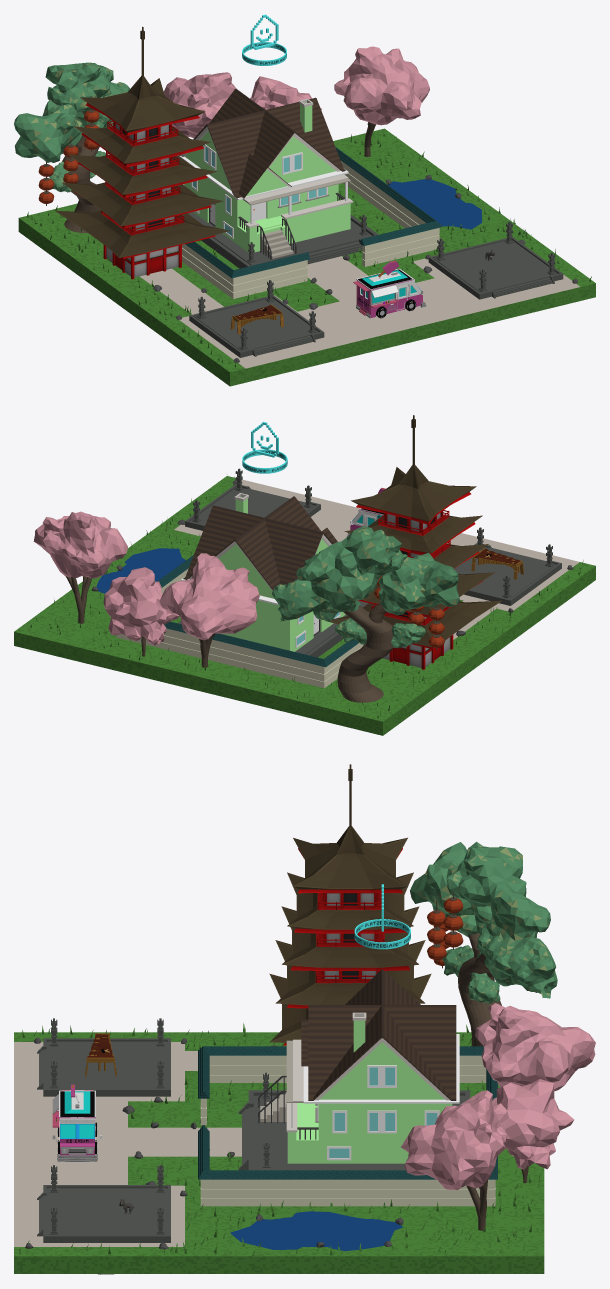
3 renders of one model, top to bottom at view 1: azimuth 30°, elevation 25°; view 2: azimuth 150°, elevation 25°; view 3: azimuth 270°, elevation 25°, orthographic. The views are drawn at different scales.
Visible parts, largest first — view 1: Cube.005, Cube.274, VEHICLES_ICE_CREAM_TRUCK, TYPE_PREMIUM, OBJRANDOM_MARIMBA; view 2: Cube.005, Cube.274, TYPE_PREMIUM, OBJRANDOM_MARIMBA, VEHICLES_ICE_CREAM_TRUCK; view 3: Cube.005, Cube.274, VEHICLES_ICE_CREAM_TRUCK, TYPE_PREMIUM, OBJRANDOM_MARIMBA.
Boxes of the visible parts, left/top/right/bottom form: Cube.005: left=14, top=26, right=595, bottom=386; Cube.274: left=178, top=88, right=353, bottom=259; VEHICLES_ICE_CREAM_TRUCK: left=353, top=260, right=426, bottom=318; TYPE_PREMIUM: left=242, top=14, right=286, bottom=65; OBJRANDOM_MARIMBA: left=230, top=304, right=283, bottom=334; Cube.005: left=14, top=415, right=595, bottom=735; Cube.274: left=181, top=493, right=345, bottom=651; TYPE_PREMIUM: left=242, top=421, right=287, bottom=473; OBJRANDOM_MARIMBA: left=471, top=548, right=523, bottom=579; VEHICLES_ICE_CREAM_TRUCK: left=347, top=488, right=385, bottom=536; Cube.005: left=14, top=764, right=595, bottom=1273; Cube.274: left=258, top=969, right=459, bottom=1163; VEHICLES_ICE_CREAM_TRUCK: left=52, top=1084, right=102, bottom=1161; TYPE_PREMIUM: left=354, top=884, right=410, bottom=949; OBJRANDOM_MARIMBA: left=85, top=1033, right=116, bottom=1076.
Size of the model in its own units: 4528 by 2663 by 4389.
Materials: 52 (6 with a texture image).
